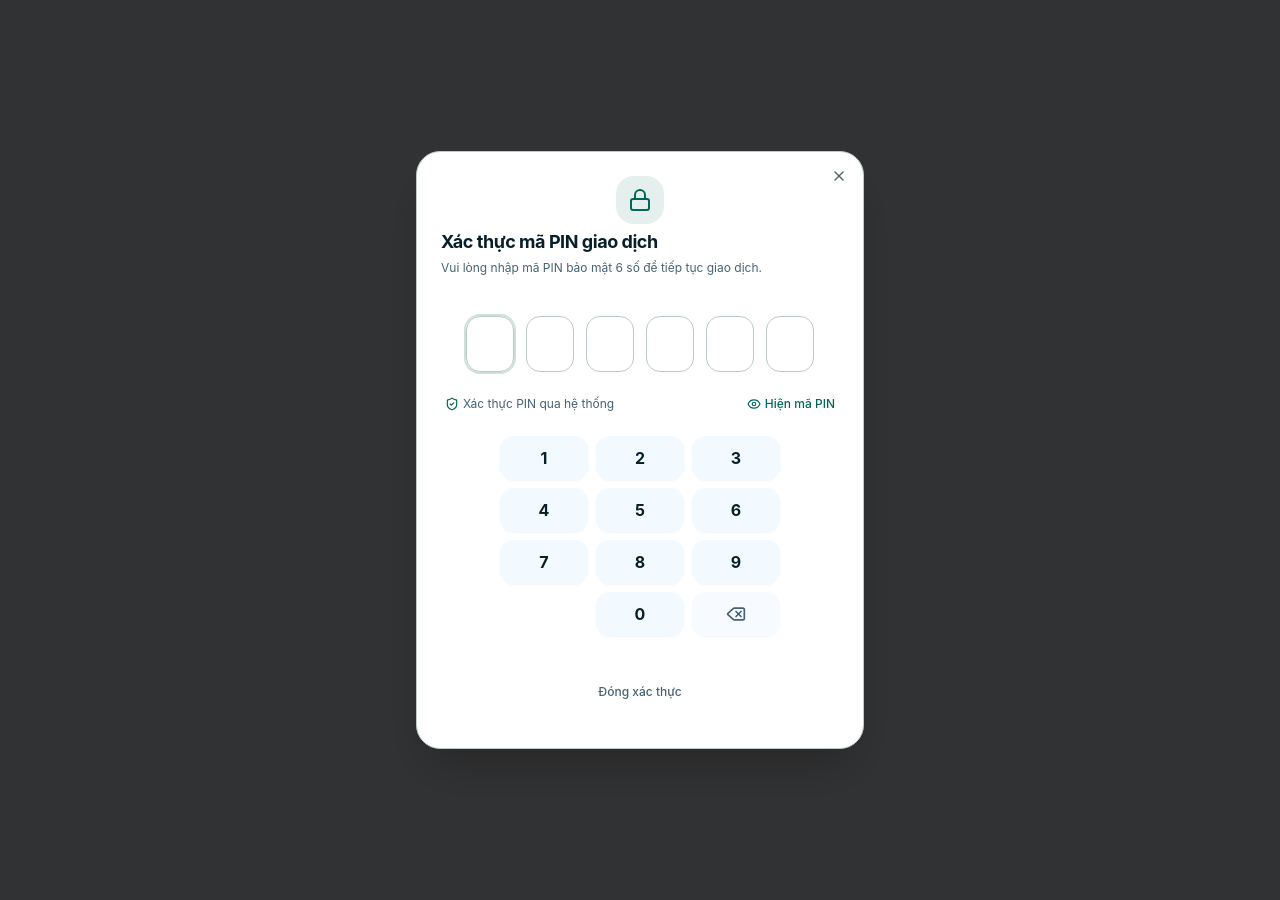
Test: Transaction PIN › cannot issue a fake token when the caller has no bound order
Click the button "1".
click(544, 458)  # box 500,436 -> 588,480
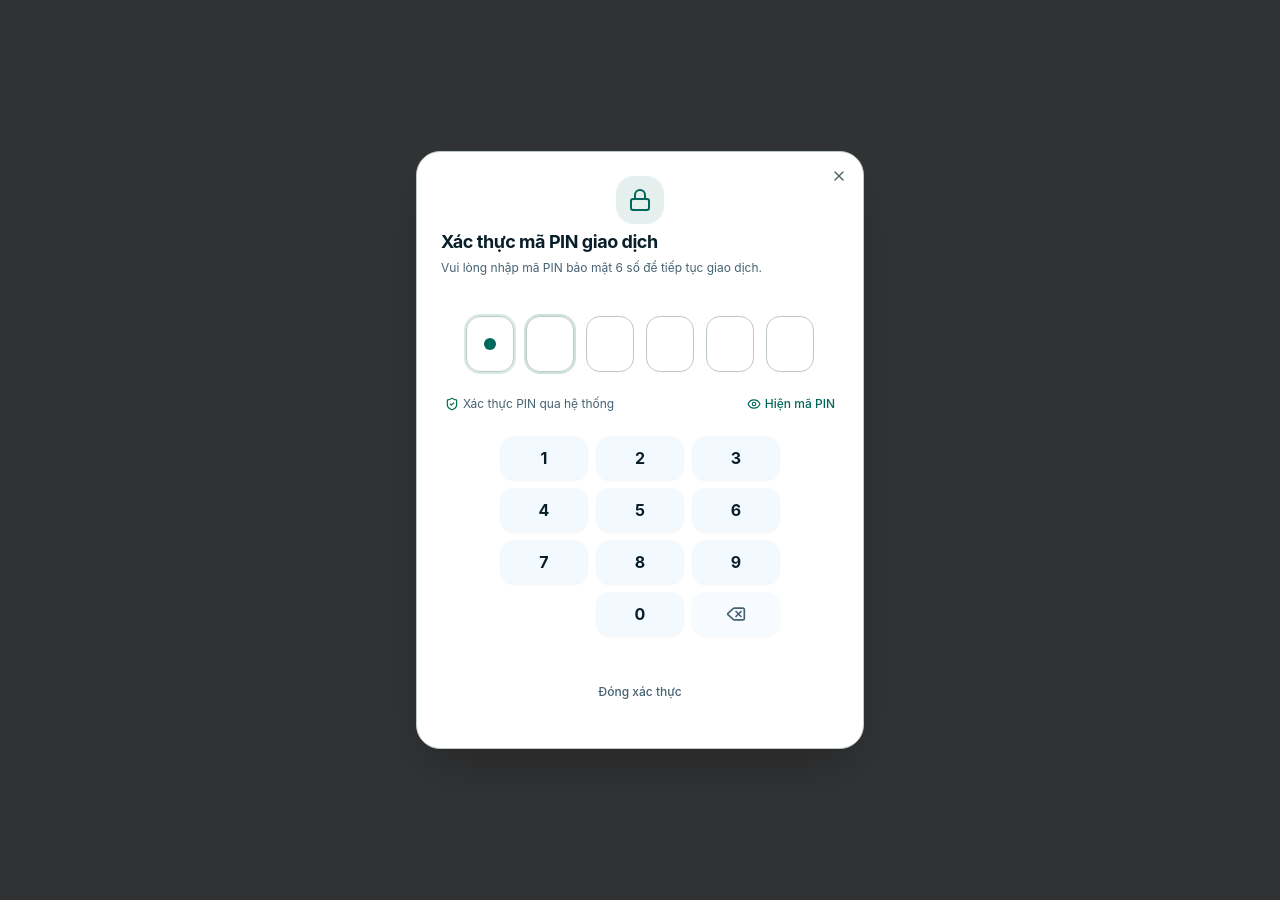
Click the button "1".
click(544, 458)  # box 500,436 -> 588,480
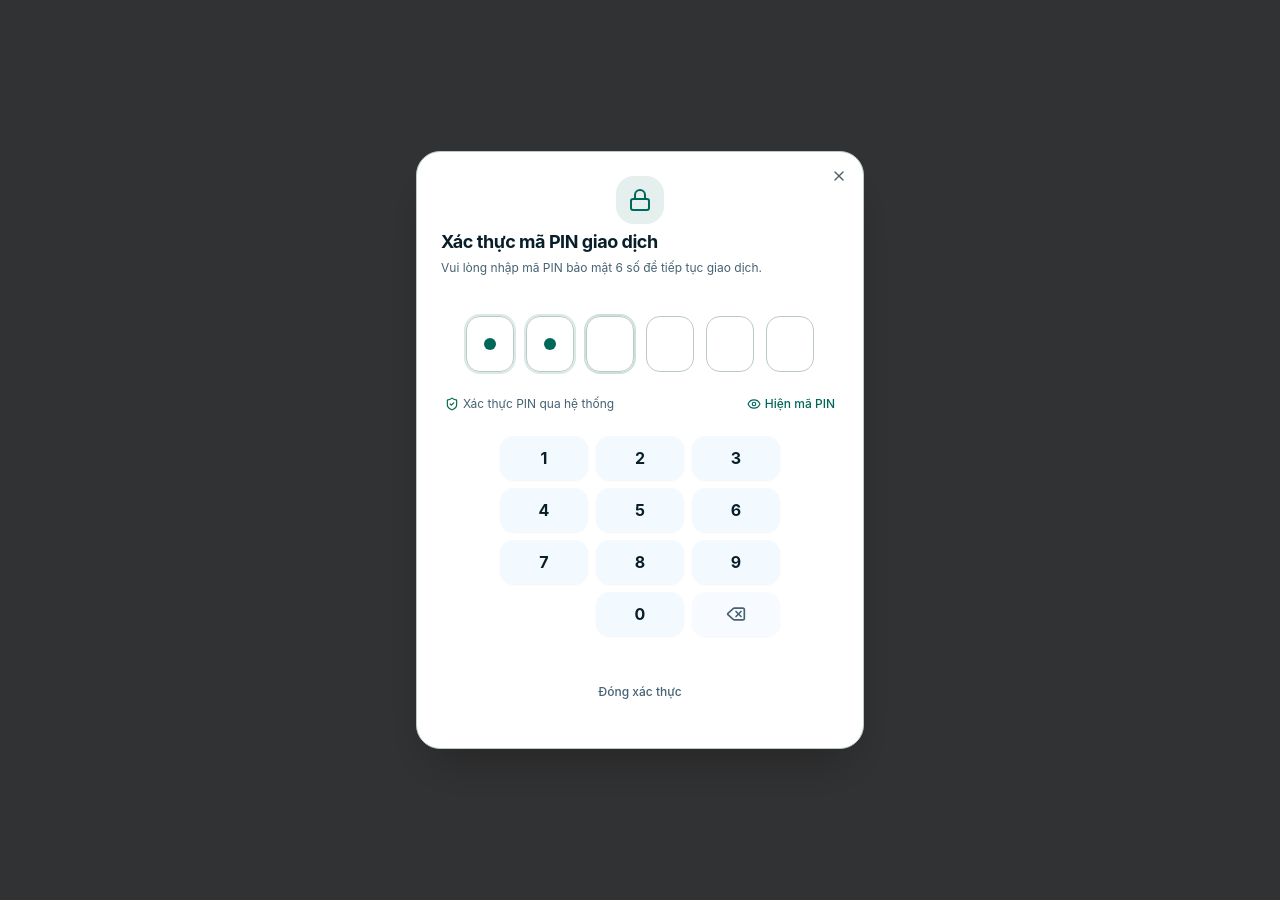
Click the button "1".
click(544, 458)  # box 500,436 -> 588,480
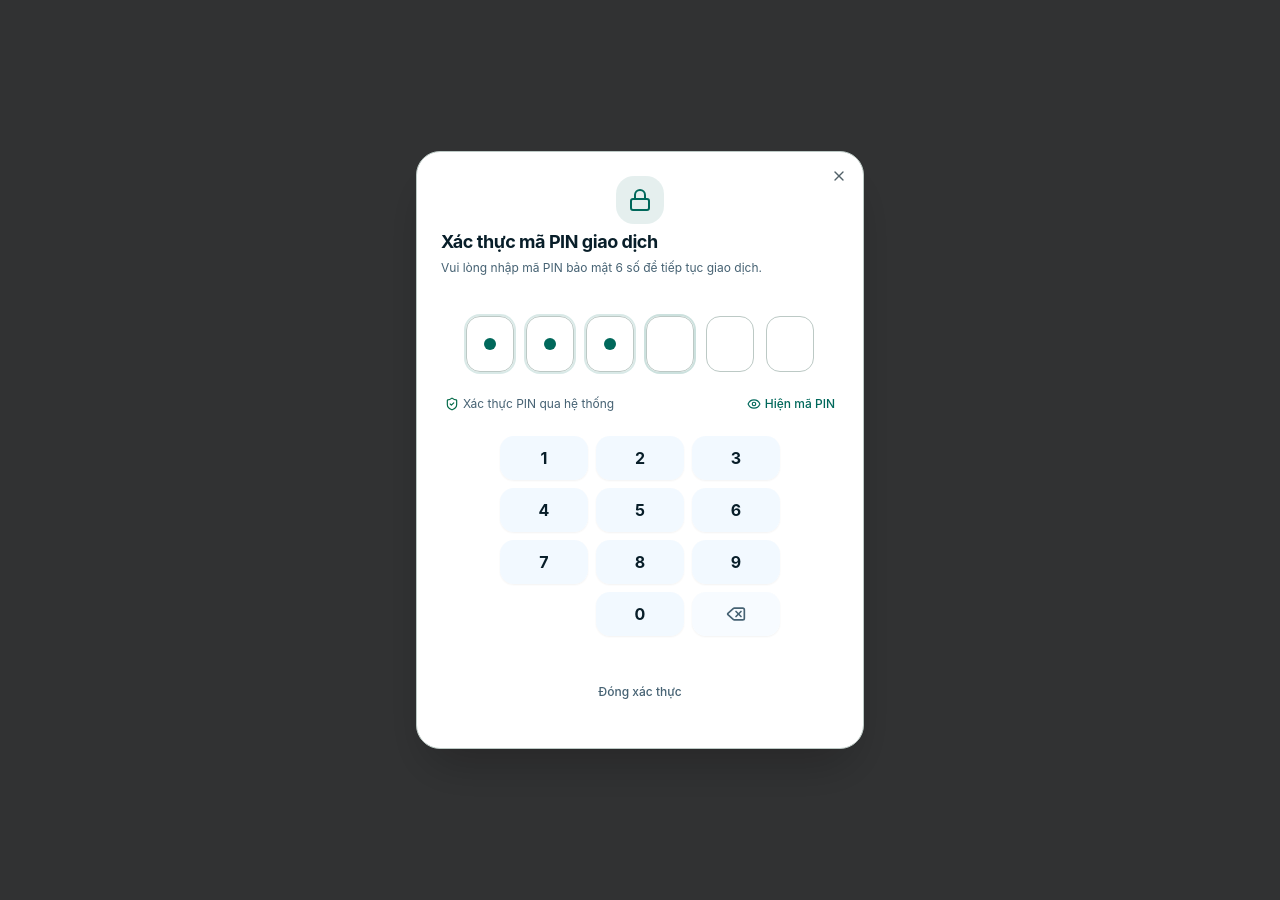
Click the button "1".
click(544, 458)  # box 500,436 -> 588,480
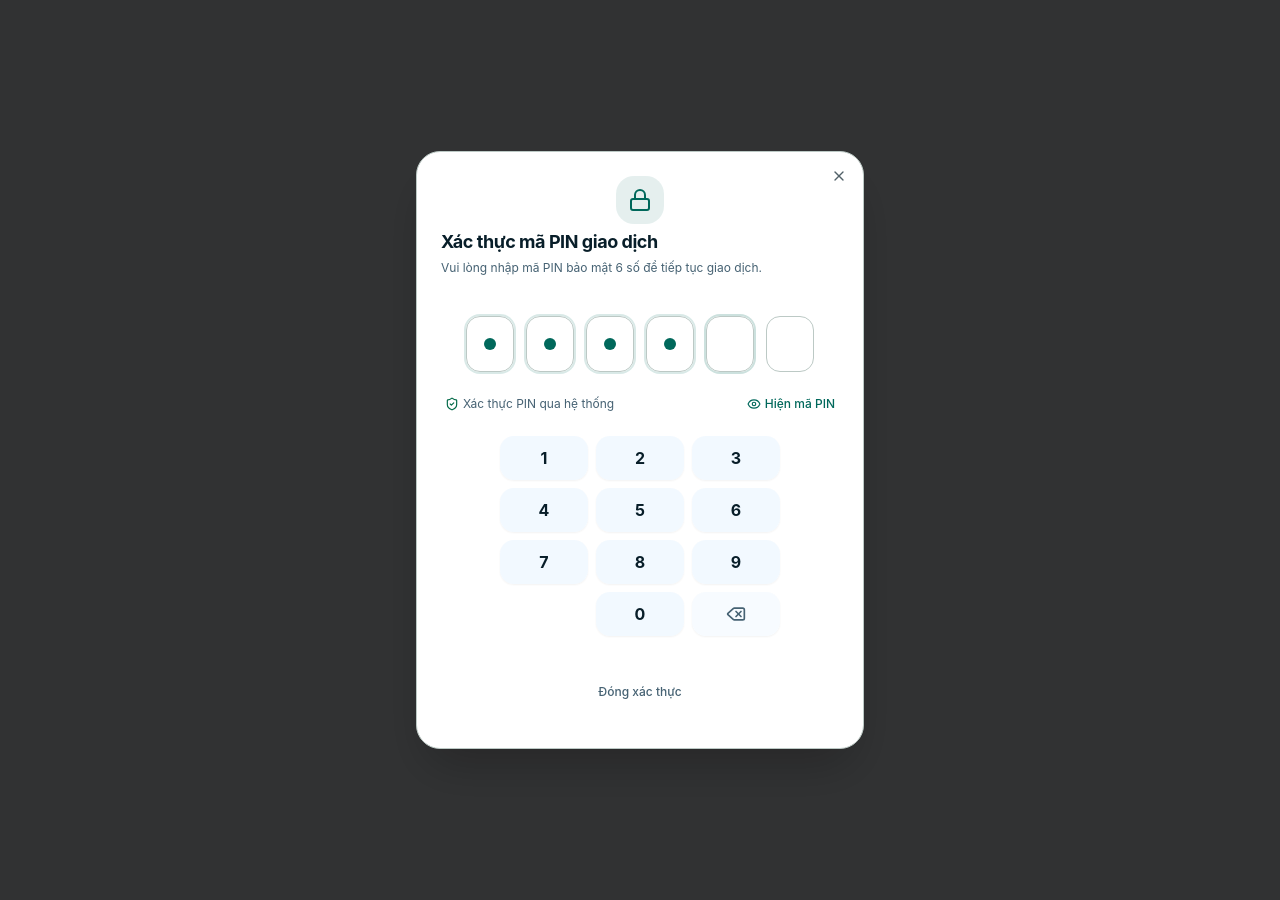
Click the button "1".
click(544, 458)  # box 500,436 -> 588,480
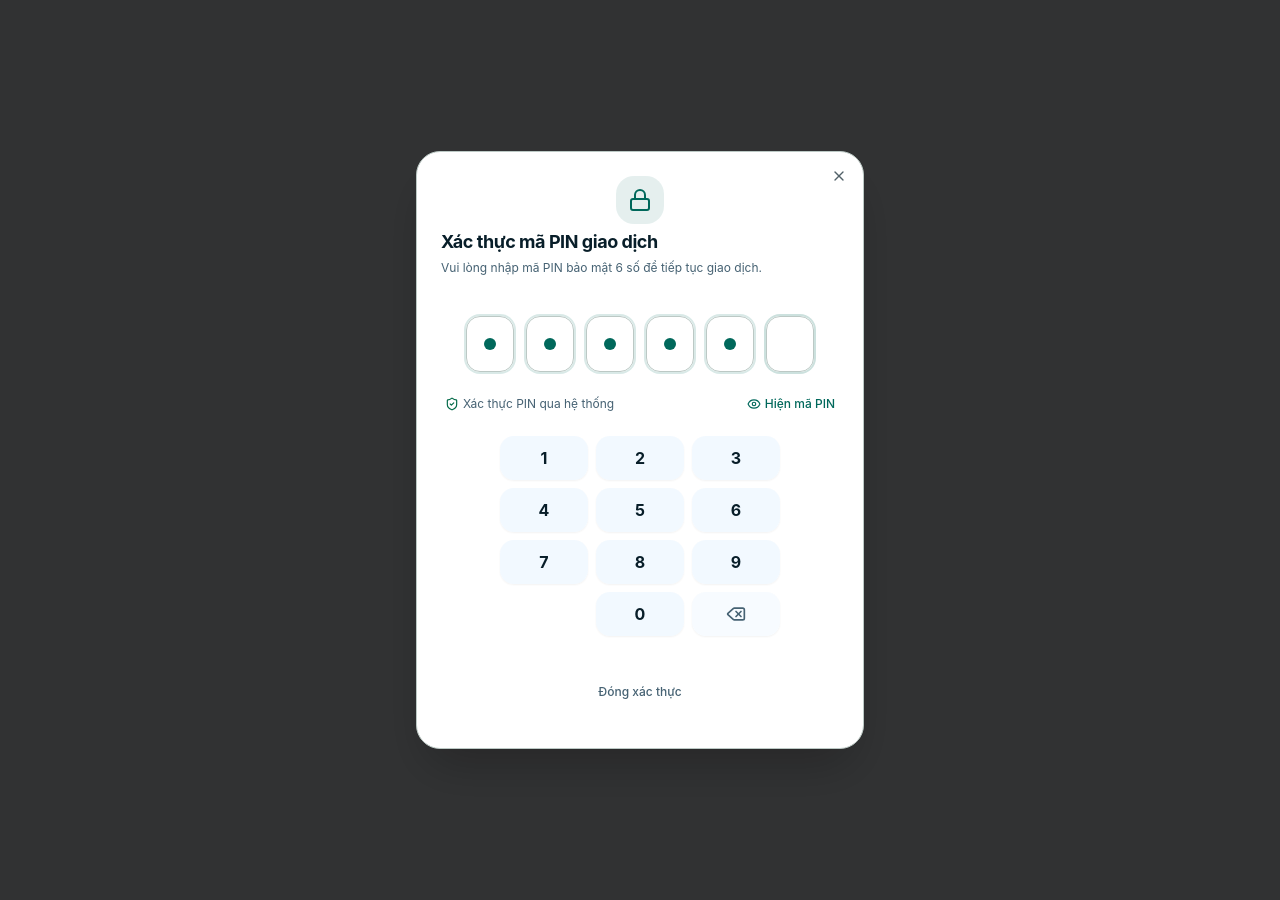
Click the button "1".
click(544, 458)  # box 500,436 -> 588,480
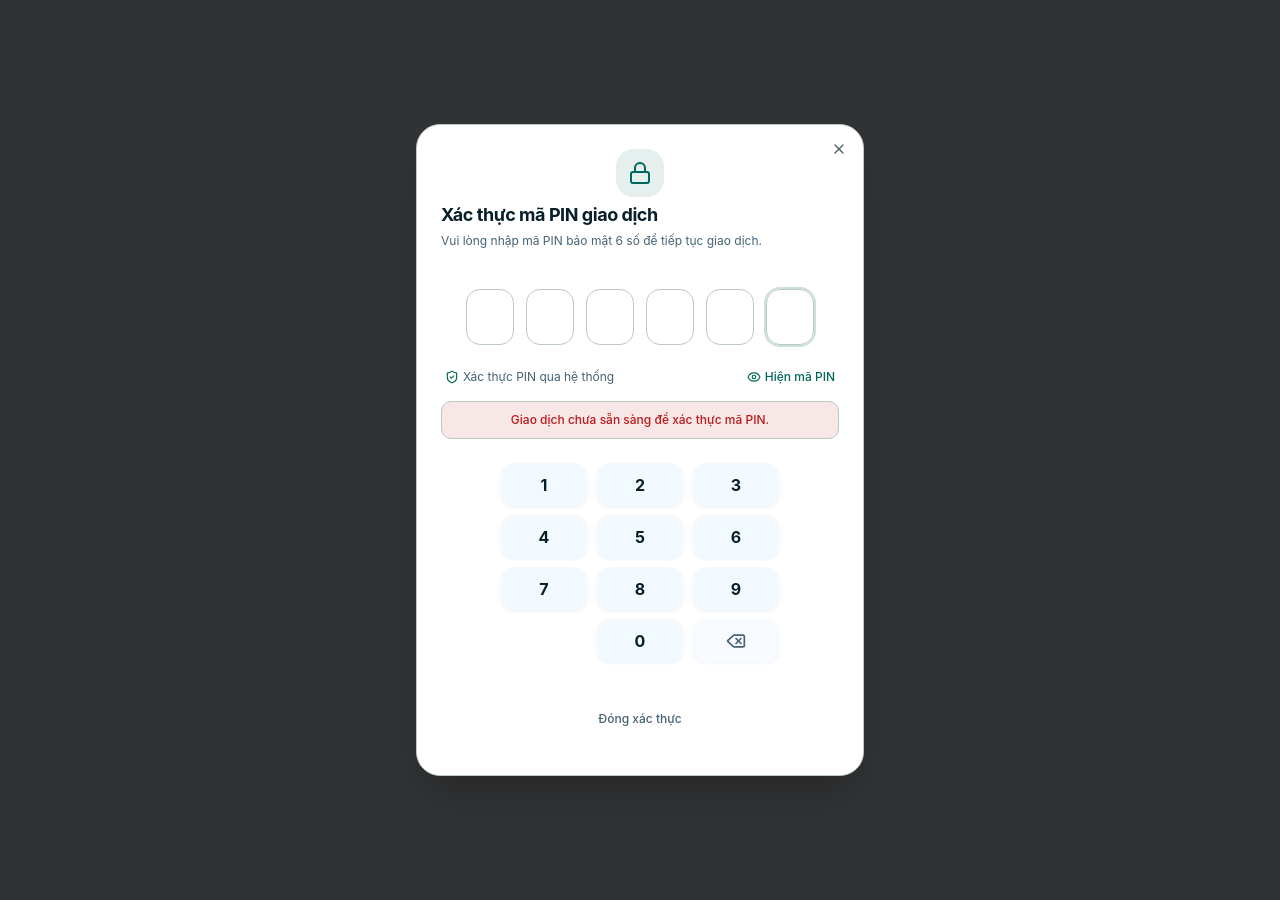
Expected: the text "Giao dịch chưa sẵn sàng để xác thực mã PIN." is shown, 441,401 -> 839,439
